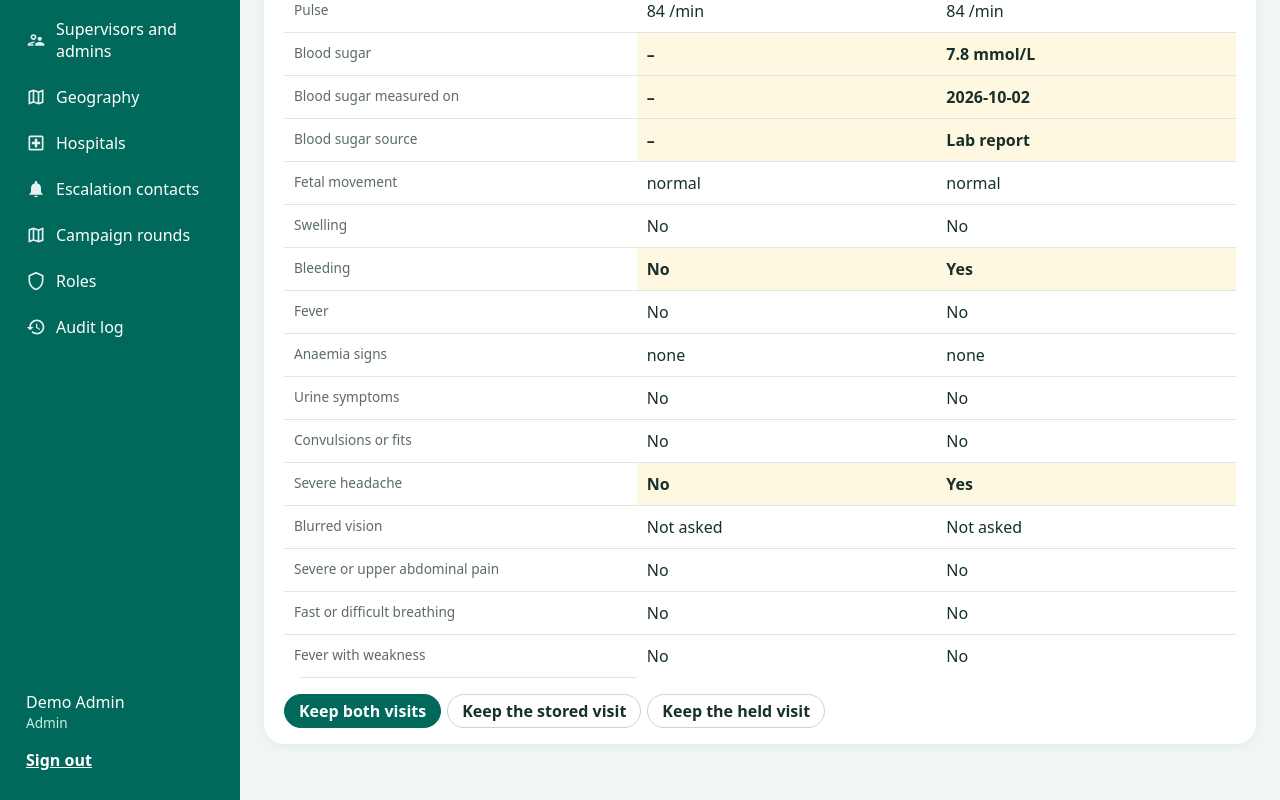
it: sync conflict queue (M3 FE-2, M10) › "Keep the stored visit" sends keep_existing
(page scrolled)
Click the button "Keep the stored visit": x=544, y=710 447,694 -> 641,728
(page scrolled)
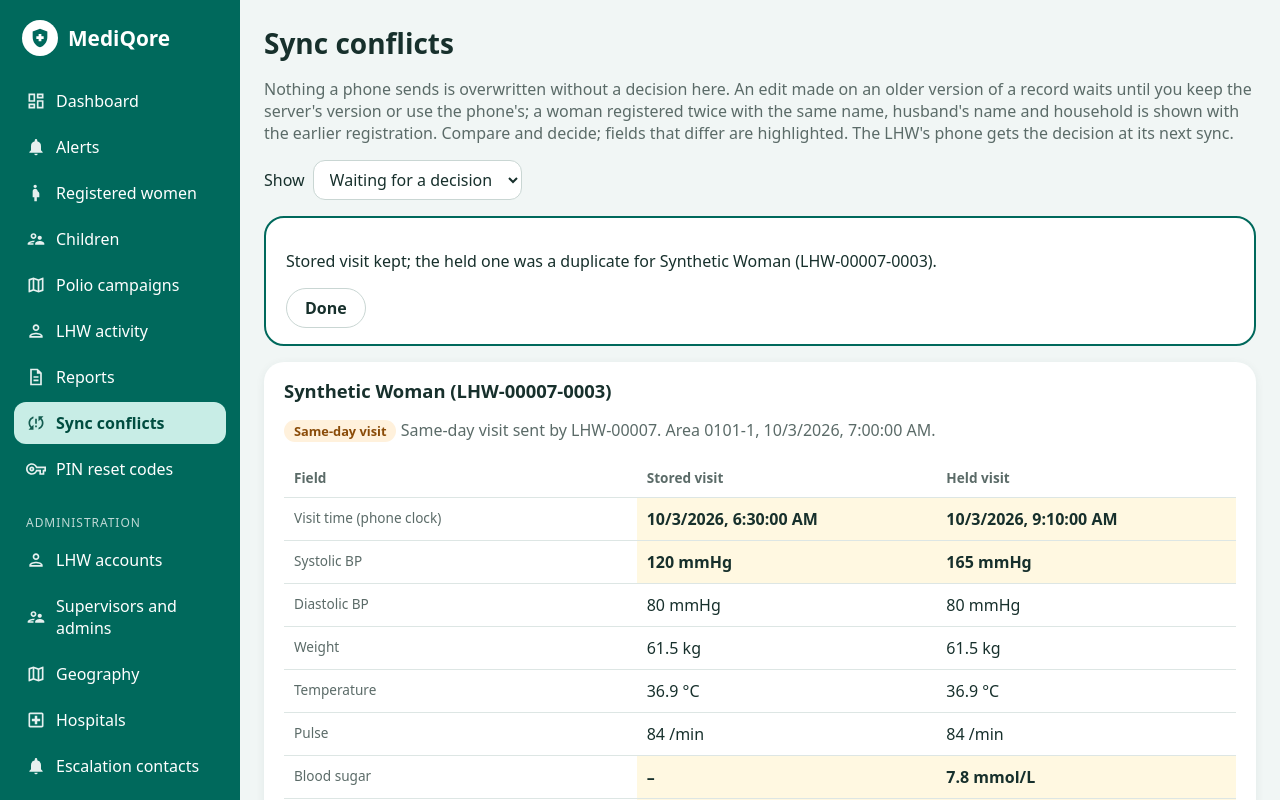
Check: the element named "Decision saved" is shown, box 264,216 -> 1256,346
